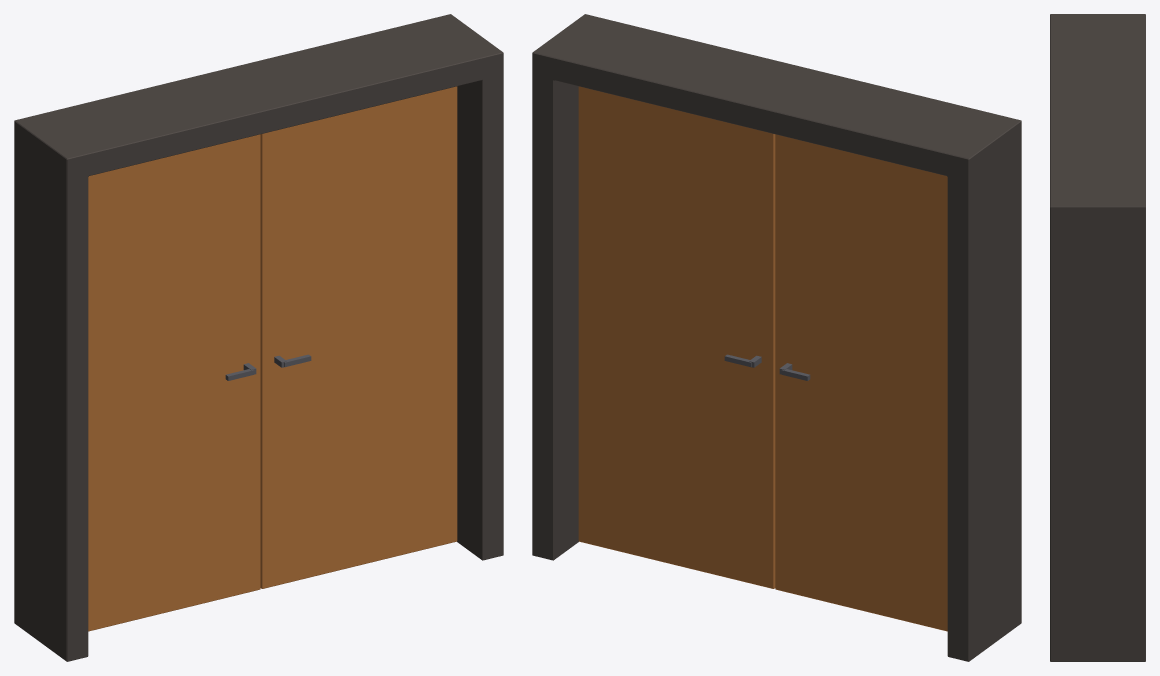
Rendered from arch_door_double_t40.glb.
3 views of the same model, side by side, from view 1: azimuth 30°, elevation 25°; view 2: azimuth 150°, elevation 25°; view 3: azimuth 270°, elevation 25° (orthographic). The views are drawn at different scales.
Parts seen in each view (by area): view 1: Frame, LeafMesh2, LeafMesh; view 2: Frame, LeafMesh2, LeafMesh; view 3: Frame.
Boxes of the visible parts, left/top/right/bottom form: Frame: left=14, top=14, right=503, bottom=661; LeafMesh2: left=260, top=86, right=457, bottom=588; LeafMesh: left=88, top=134, right=260, bottom=631; Frame: left=532, top=14, right=1021, bottom=661; LeafMesh2: left=578, top=86, right=775, bottom=588; LeafMesh: left=775, top=134, right=947, bottom=631; Frame: left=1050, top=14, right=1145, bottom=661.
Size of what is drawn, in the model's own units: 2 by 2.2 by 0.42.
